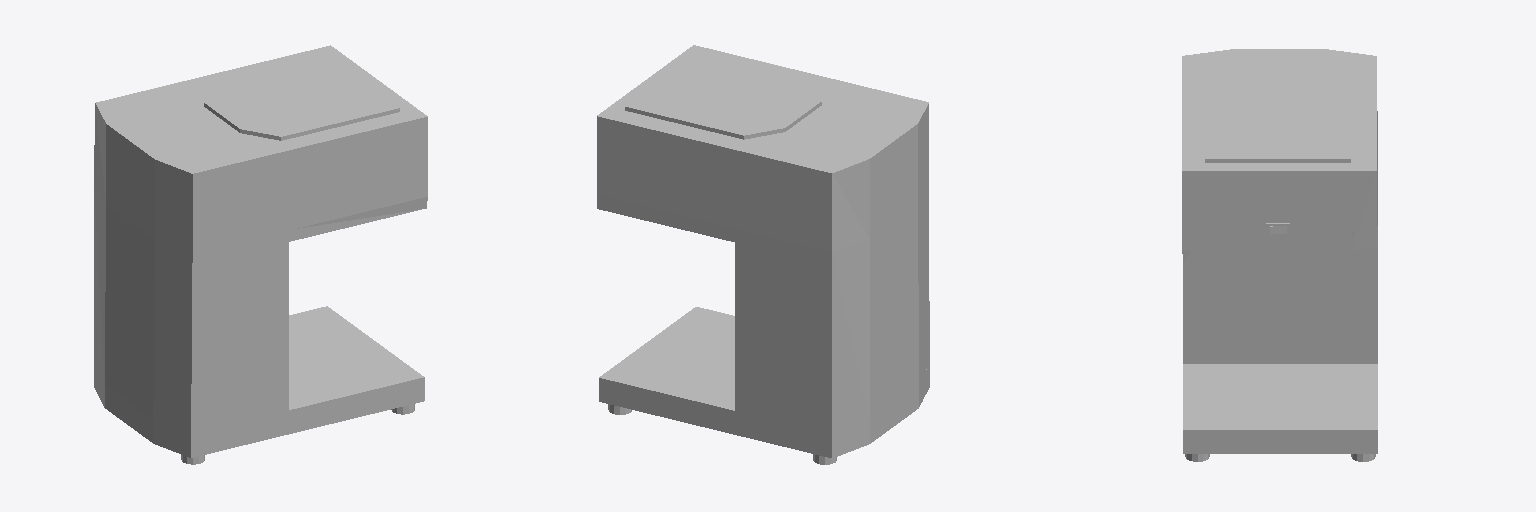
Rendered from Coffee Maker v2.obj.
The picture shows the model from 3 angles: view 1: azimuth 30°, elevation 25°; view 2: azimuth 150°, elevation 25°; view 3: azimuth 270°, elevation 25°; orthographic projection.
Parts seen in each view (by area): view 1: group[number redacted], group[number redacted], group[number redacted], group[number redacted], group[number redacted]; view 2: group[number redacted], group[number redacted], group[number redacted], group[number redacted], group[number redacted]; view 3: group[number redacted], group[number redacted], group[number redacted], group[number redacted].
Part boxes in pixels (left/top/right/bottom): group[number redacted]: left=94, top=45, right=427, bottom=253; group[number redacted]: left=94, top=182, right=288, bottom=435; group[number redacted]: left=94, top=306, right=424, bottom=457; group[number redacted]: left=204, top=55, right=399, bottom=140; group[number redacted]: left=289, top=197, right=427, bottom=241; group[number redacted]: left=597, top=45, right=928, bottom=251; group[number redacted]: left=735, top=184, right=929, bottom=436; group[number redacted]: left=599, top=307, right=929, bottom=458; group[number redacted]: left=625, top=53, right=821, bottom=139; group[number redacted]: left=597, top=195, right=734, bottom=241; group[number redacted]: left=1182, top=49, right=1377, bottom=250; group[number redacted]: left=1183, top=249, right=1377, bottom=363; group[number redacted]: left=1183, top=364, right=1377, bottom=453; group[number redacted]: left=1205, top=90, right=1350, bottom=162.
Bounding box in the file's own units: 1.32 × 1.49 × 0.885.